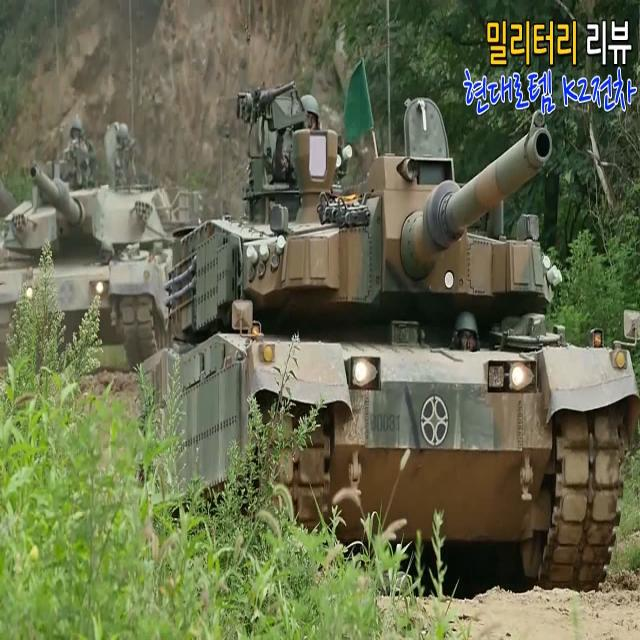korea tank: (139, 81, 640, 586)
